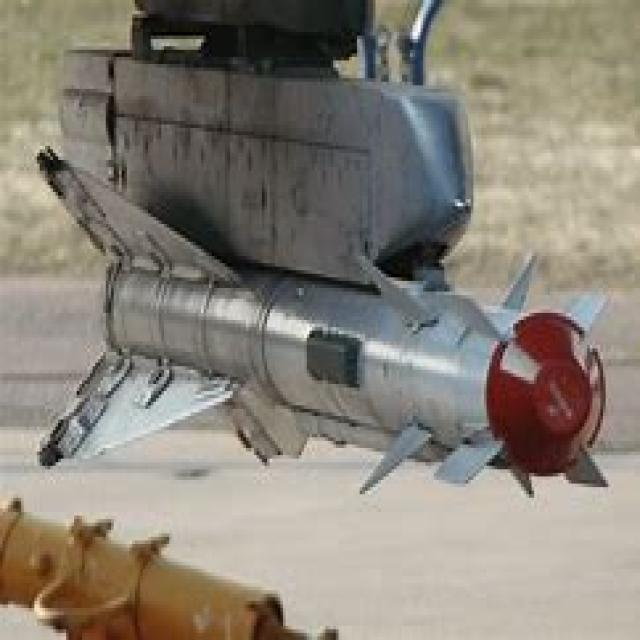missile: (32, 145, 608, 494)
